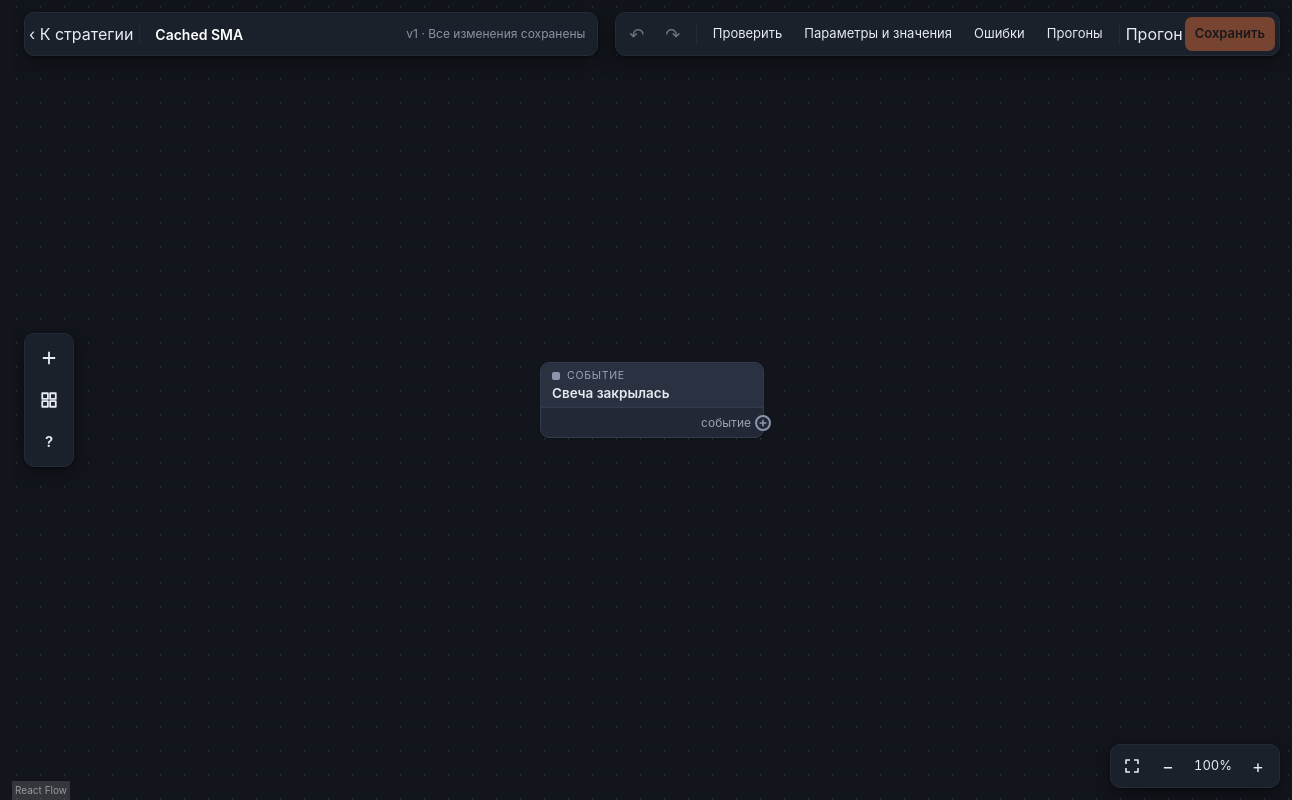
Test: cached editor › saves the draft as the next version and stays in the editor
This screenshot has width=1292, height=800.
Replace the text in the field named "Название стратегии" with "Changed" at (274, 34), box top-left (146, 18), bottom-right (402, 50)
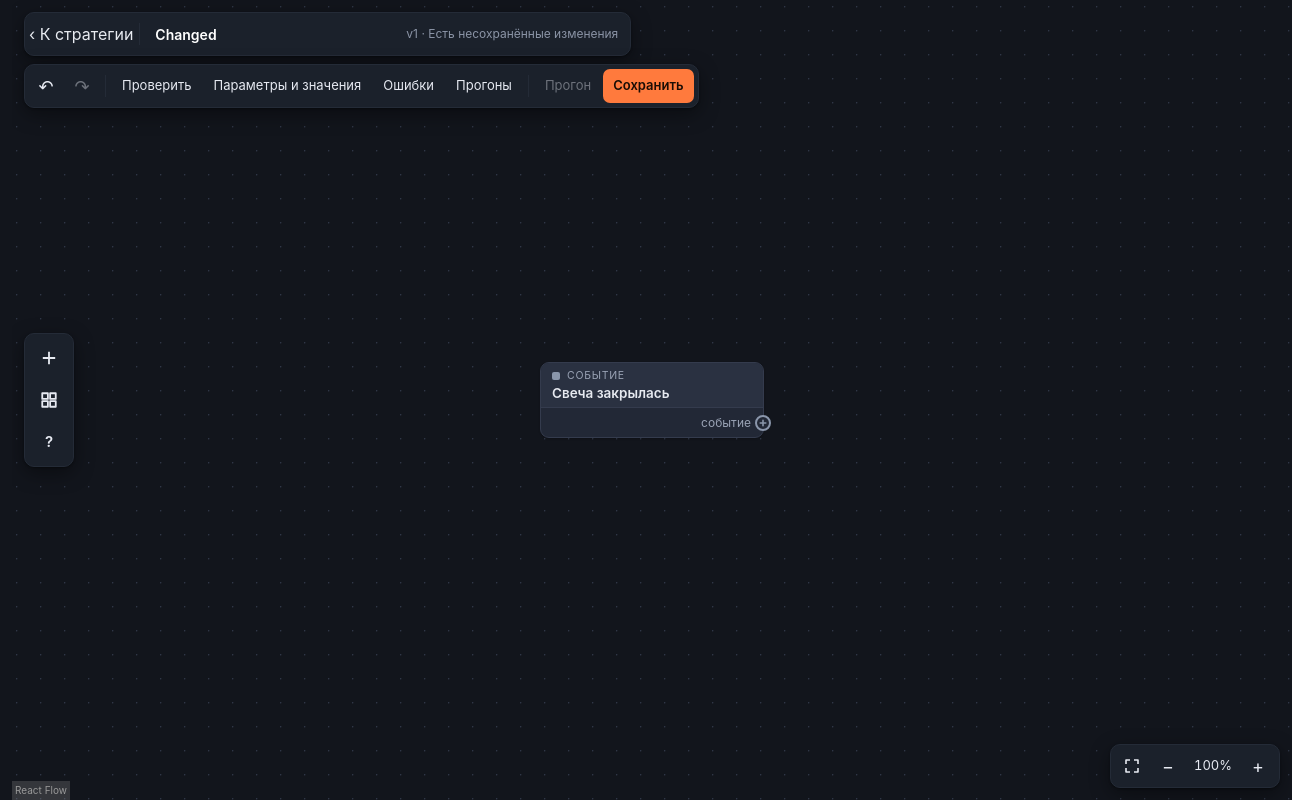
Click the button "Сохранить" at (648, 86), box top-left (603, 69), bottom-right (694, 103)
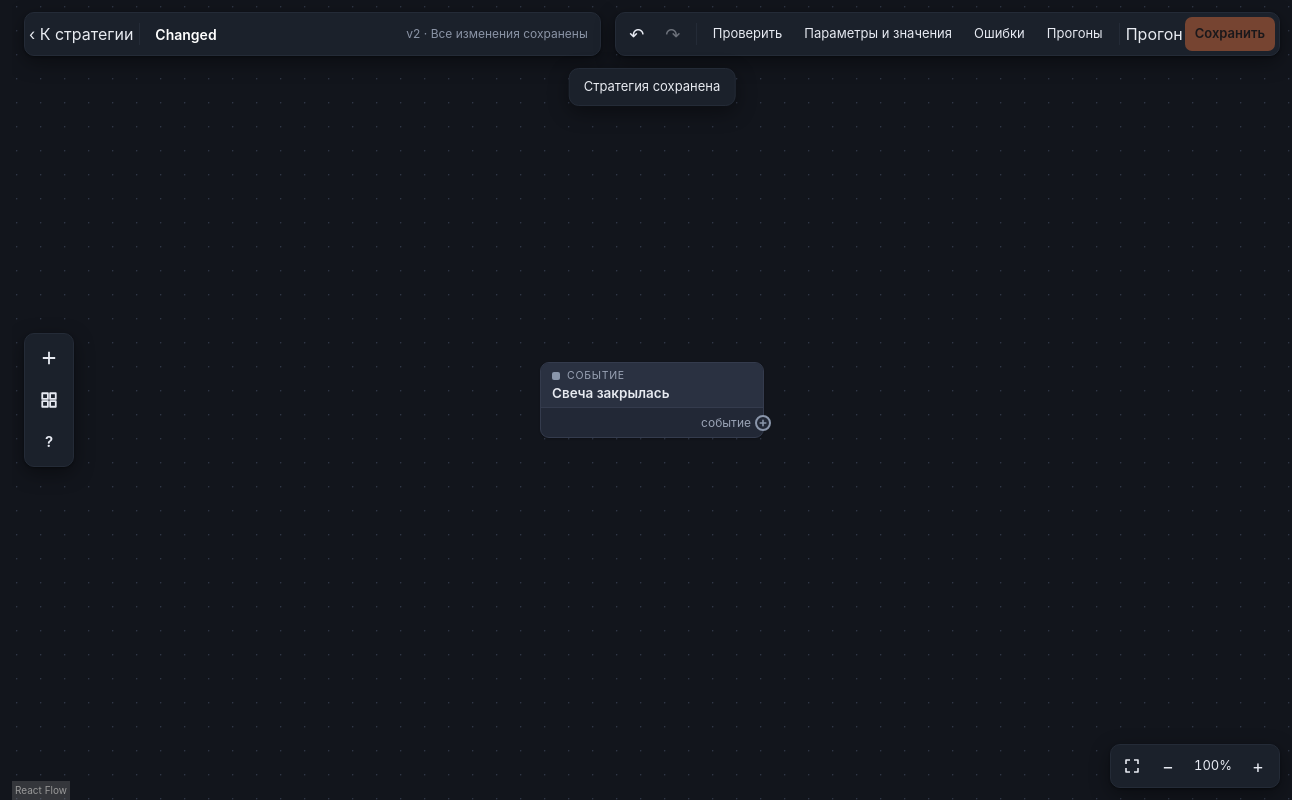
Expected: the text "v2" is shown, top-left (406, 26), bottom-right (420, 41)
Expected: the text "Все изменения сохранены" is shown, top-left (431, 26), bottom-right (588, 41)
